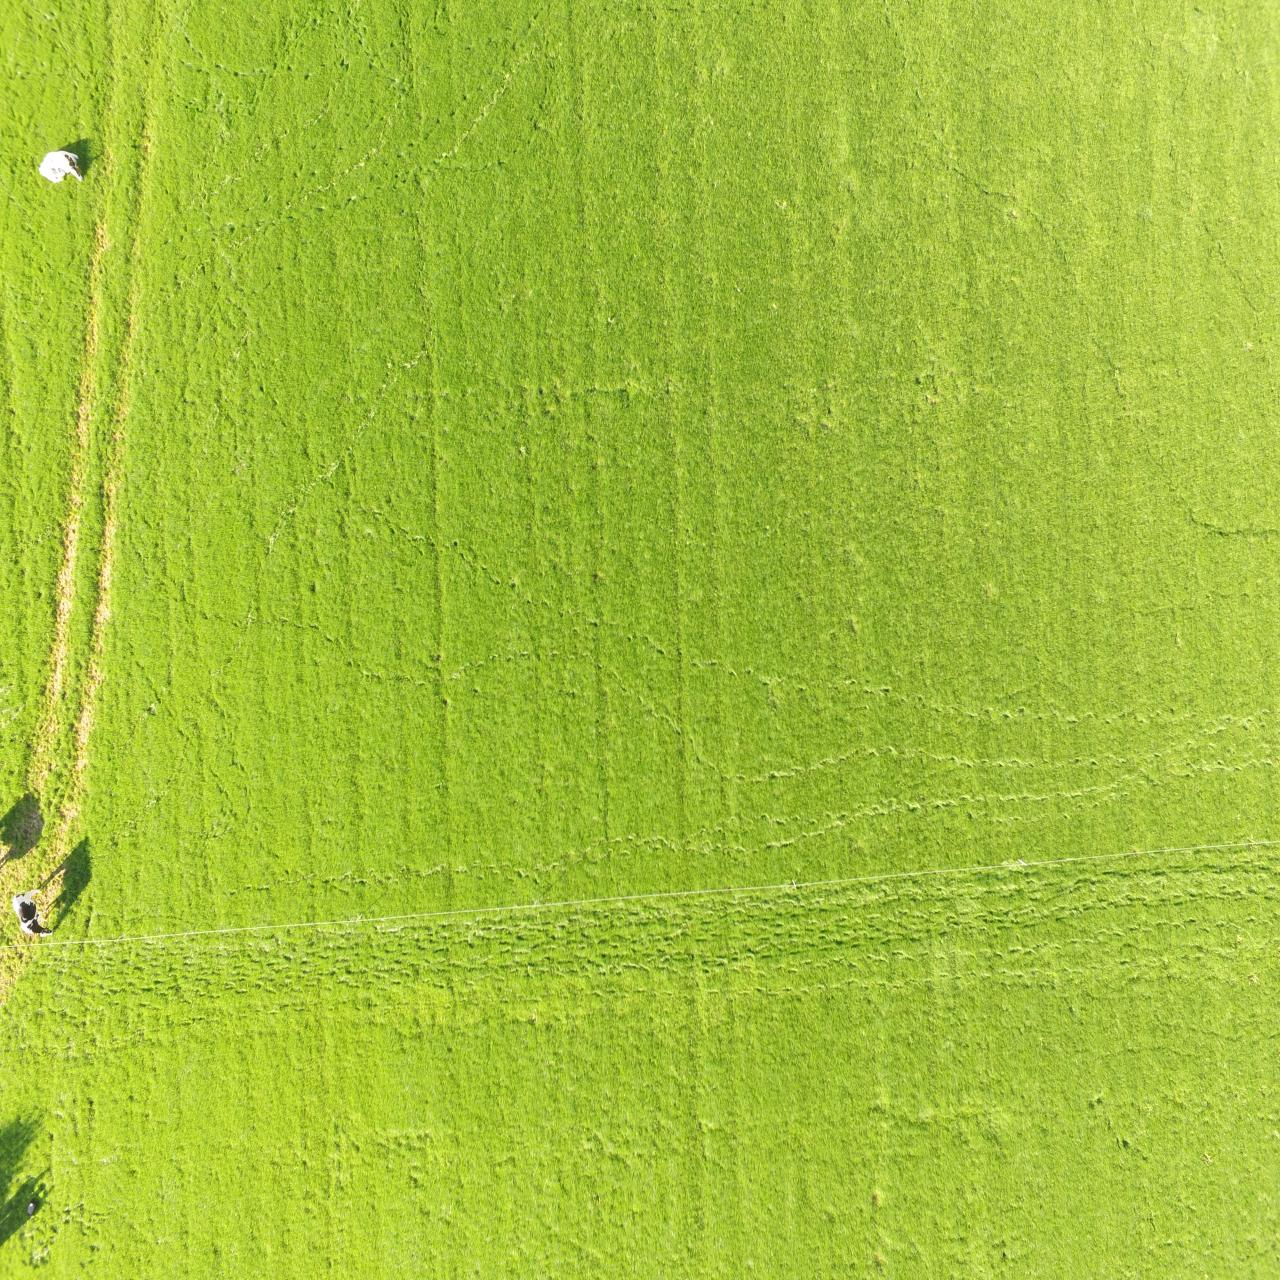cow: (10, 888, 54, 936), (38, 151, 86, 184)
